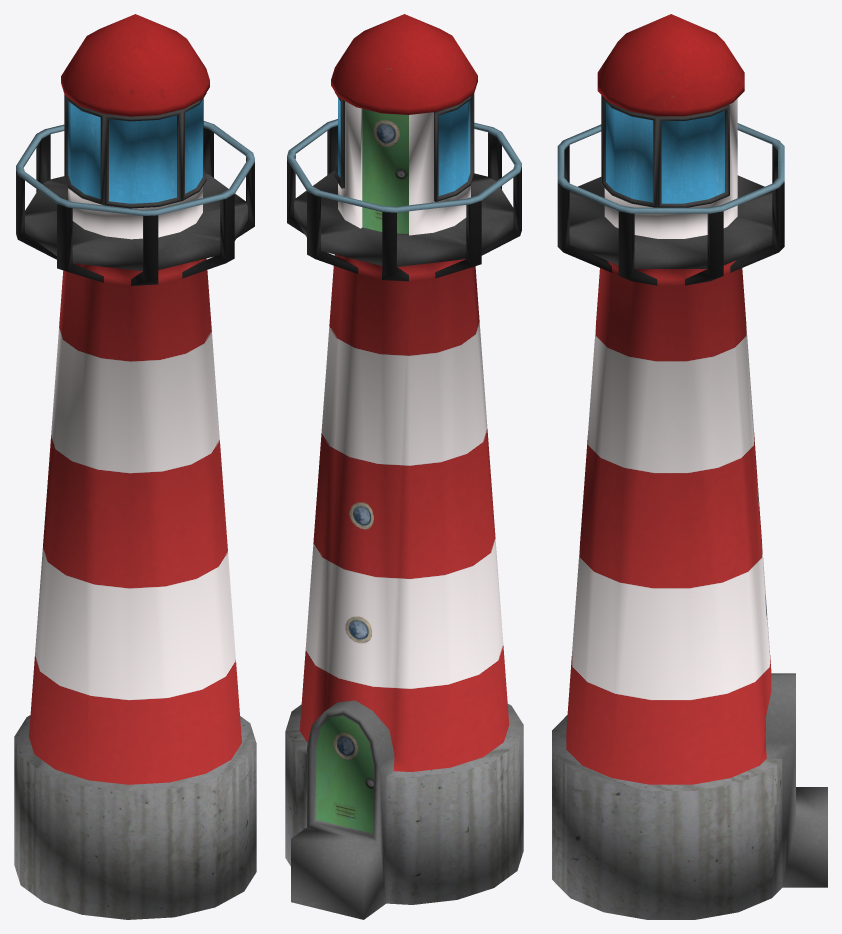
The model's file is lighthouse.obj.
3 renders of one model, left to right at view 1: azimuth 30°, elevation 25°; view 2: azimuth 150°, elevation 25°; view 3: azimuth 270°, elevation 25°, orthographic.
Parts seen in each view (by area): view 1: Default; view 2: Default; view 3: Default.
Part boxes in pixels (bbox=[...]): Default: bbox=[14, 14, 256, 919]; Default: bbox=[285, 14, 523, 919]; Default: bbox=[552, 14, 827, 919].
Size of the model in its own units: 3.34 by 13.25 by 3.87.
1 material, 1 textured.
